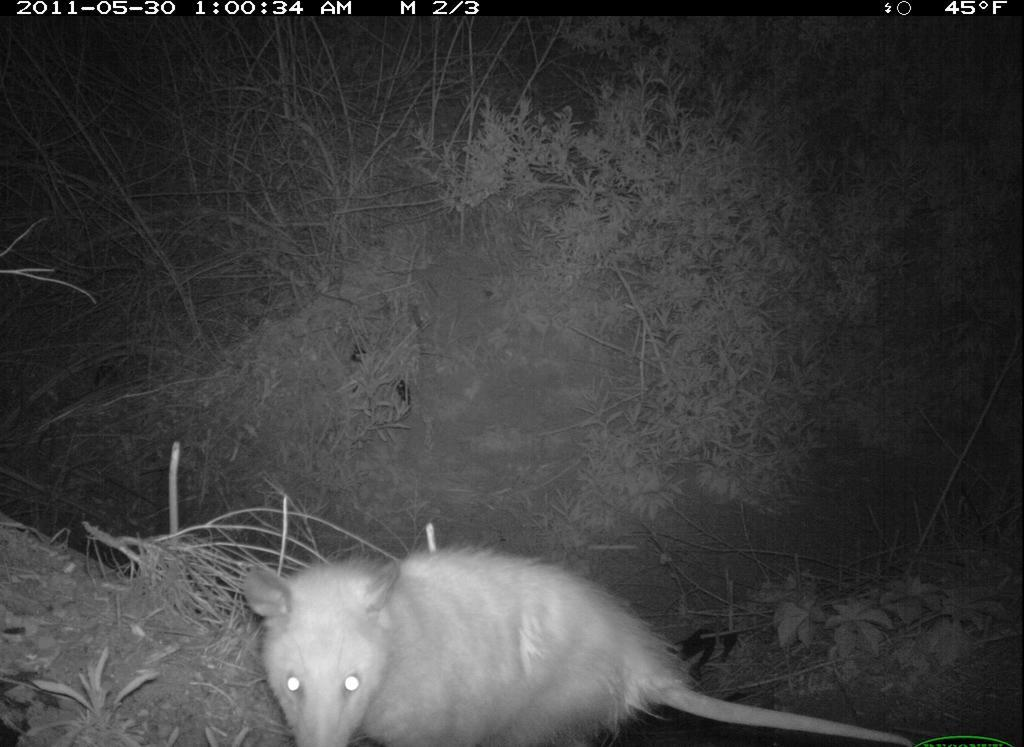opossum: (193, 492, 945, 747)
